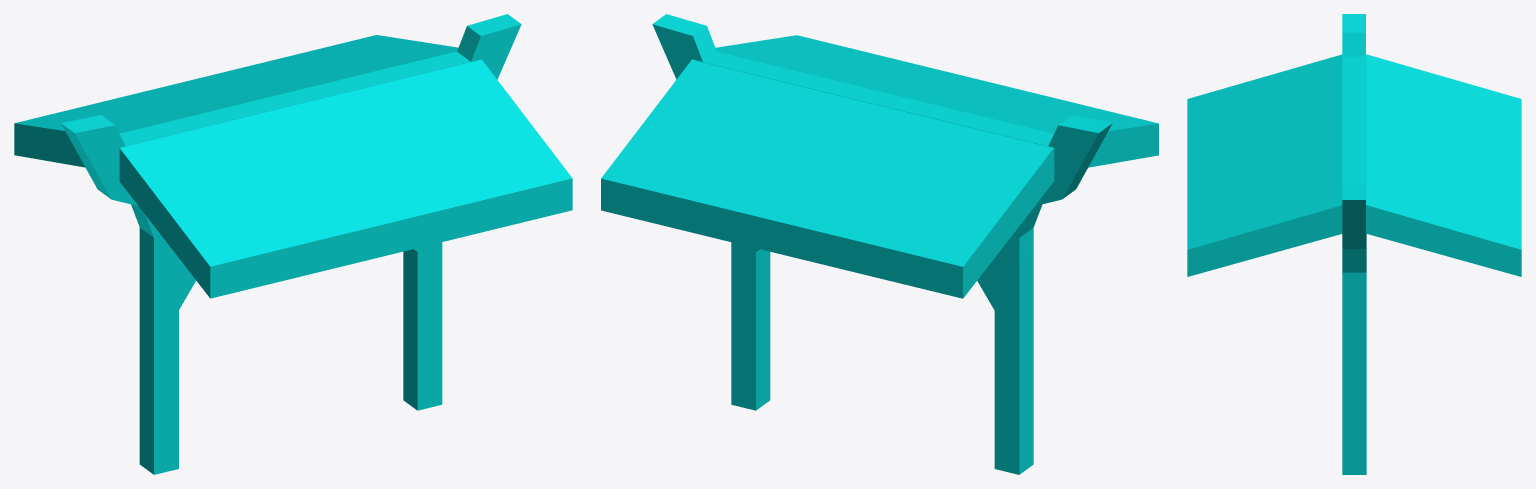
Rendered from SM_Prop_Tent_03_Collision.fbx.
The picture shows the model from 3 angles, left to right: view 1: azimuth 30°, elevation 25°; view 2: azimuth 150°, elevation 25°; view 3: azimuth 270°, elevation 25°; orthographic projection. The views are drawn at different scales.
Parts seen in each view (by area): view 1: SM_Prop_Tent_03_Collision; view 2: SM_Prop_Tent_03_Collision; view 3: SM_Prop_Tent_03_Collision.
Part boxes in pixels (left/top/right/bottom): SM_Prop_Tent_03_Collision: left=14, top=14, right=572, bottom=474; SM_Prop_Tent_03_Collision: left=601, top=14, right=1158, bottom=474; SM_Prop_Tent_03_Collision: left=1187, top=14, right=1521, bottom=474.
Bounding box in the file's own units: 451 × 348 × 343.
